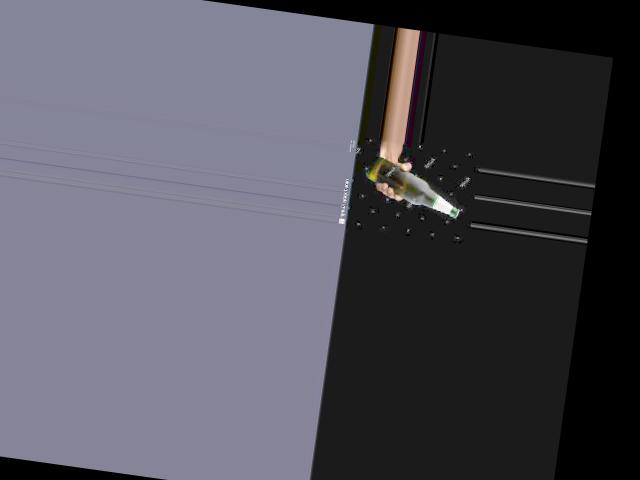beer: (361, 154, 466, 219)
